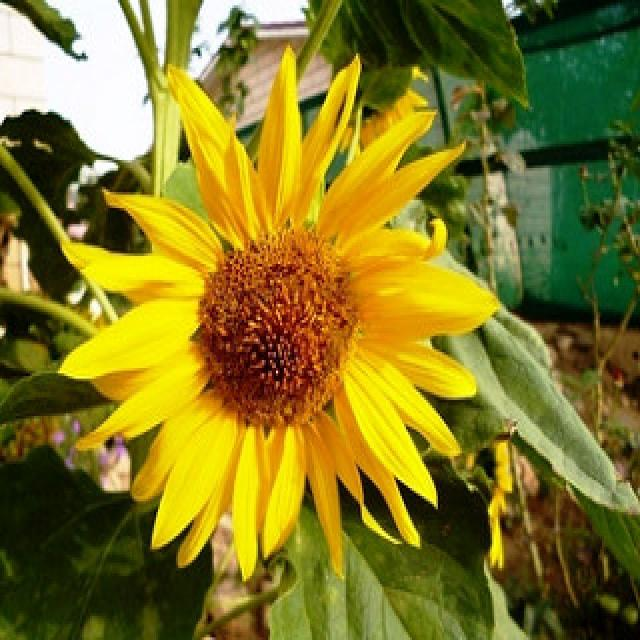sunflower: (64, 60, 506, 578)
